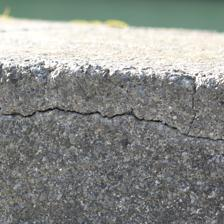Crack: (5, 101, 219, 146)
